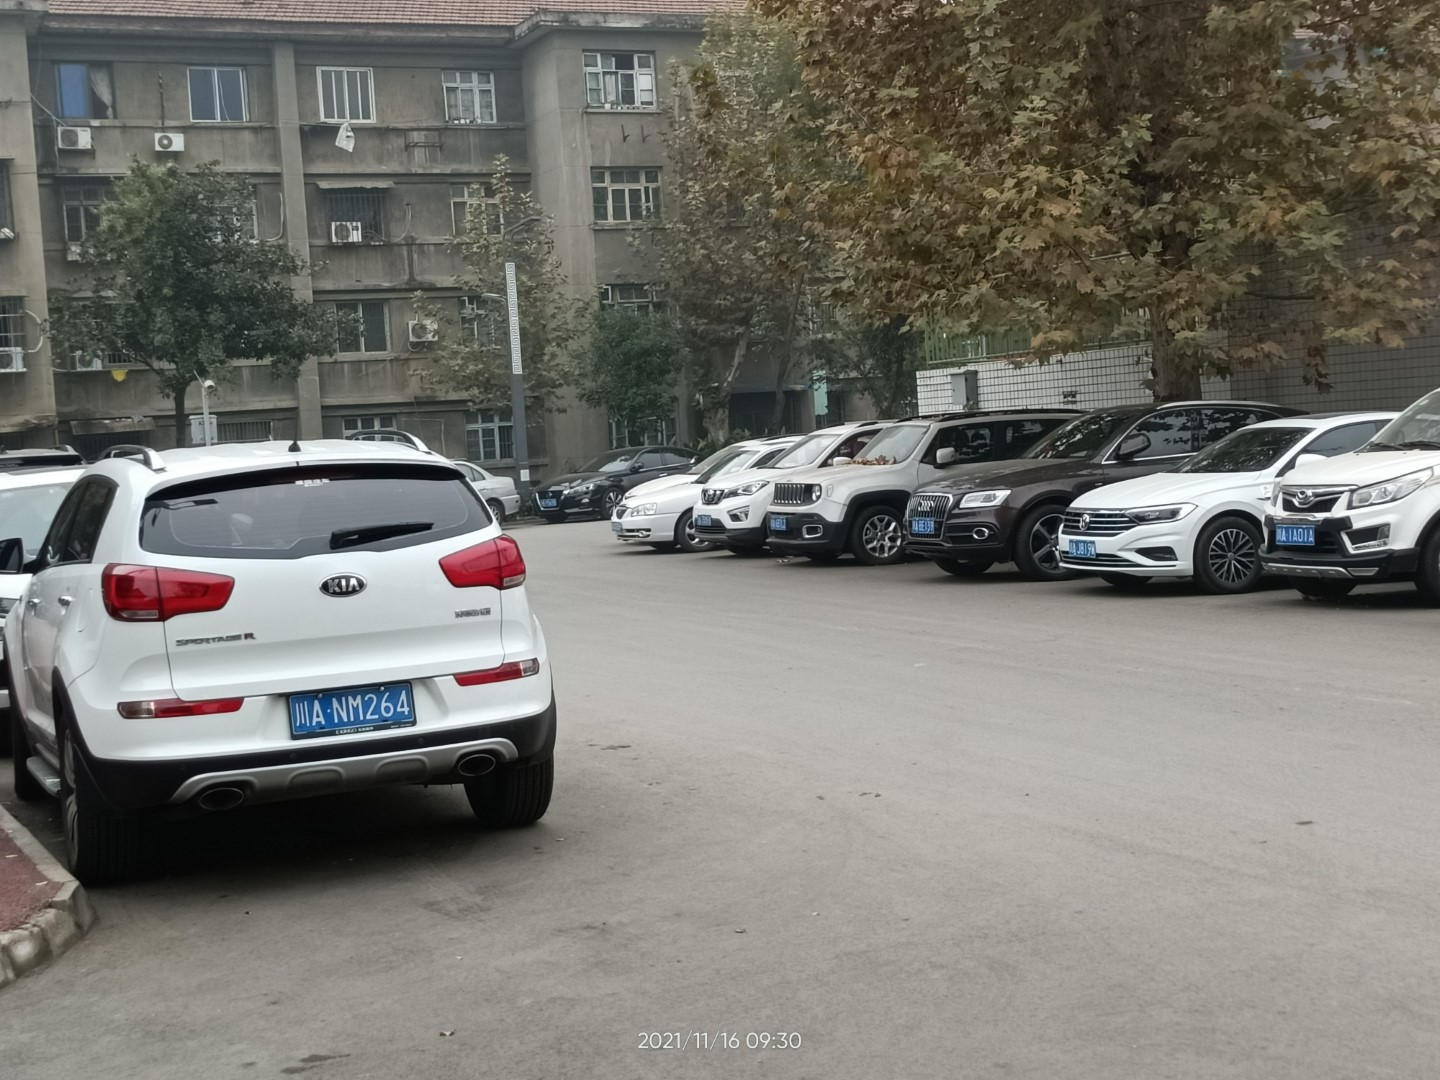plate: (287, 681, 416, 737), (1274, 523, 1316, 543)
